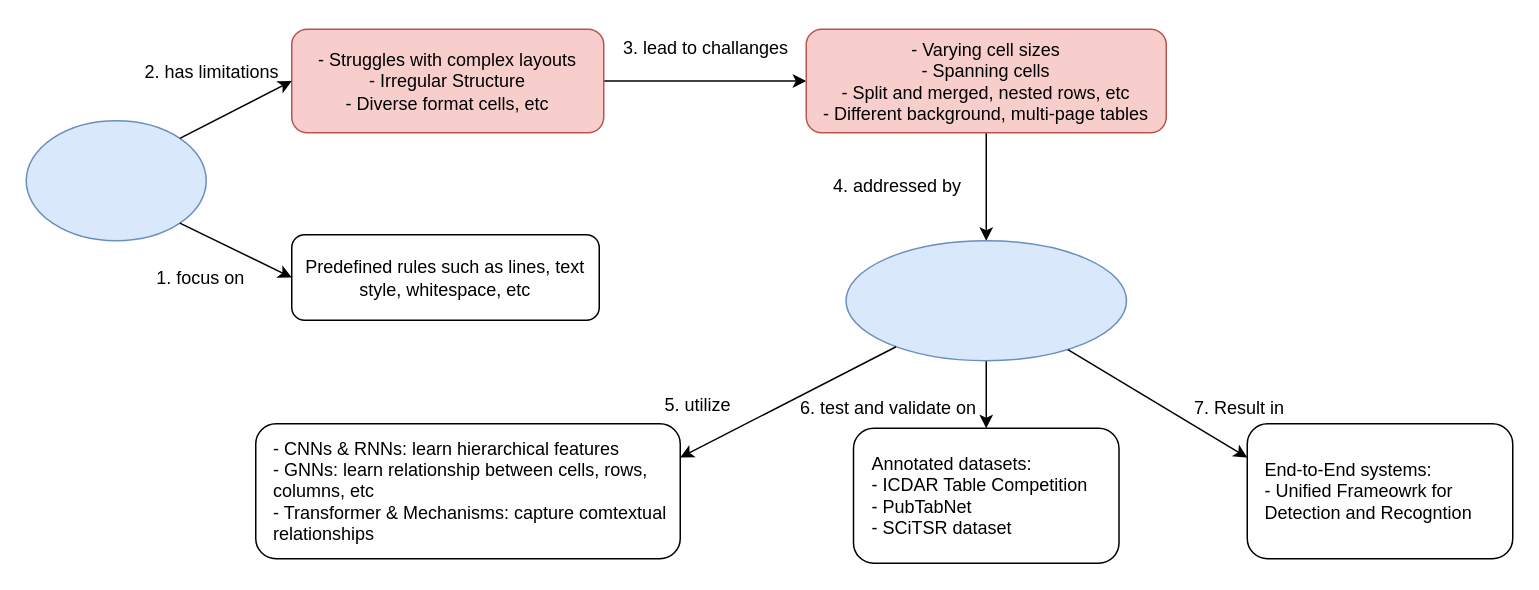
Image size: 1539x590. Some labels were removed from this diagram. Here are the shapes that lost their labels. From the top down, the centre of each, then its label:
point (115, 180): Heuristic-based approaches
point (985, 300): Machine Learning and Deep Learning
